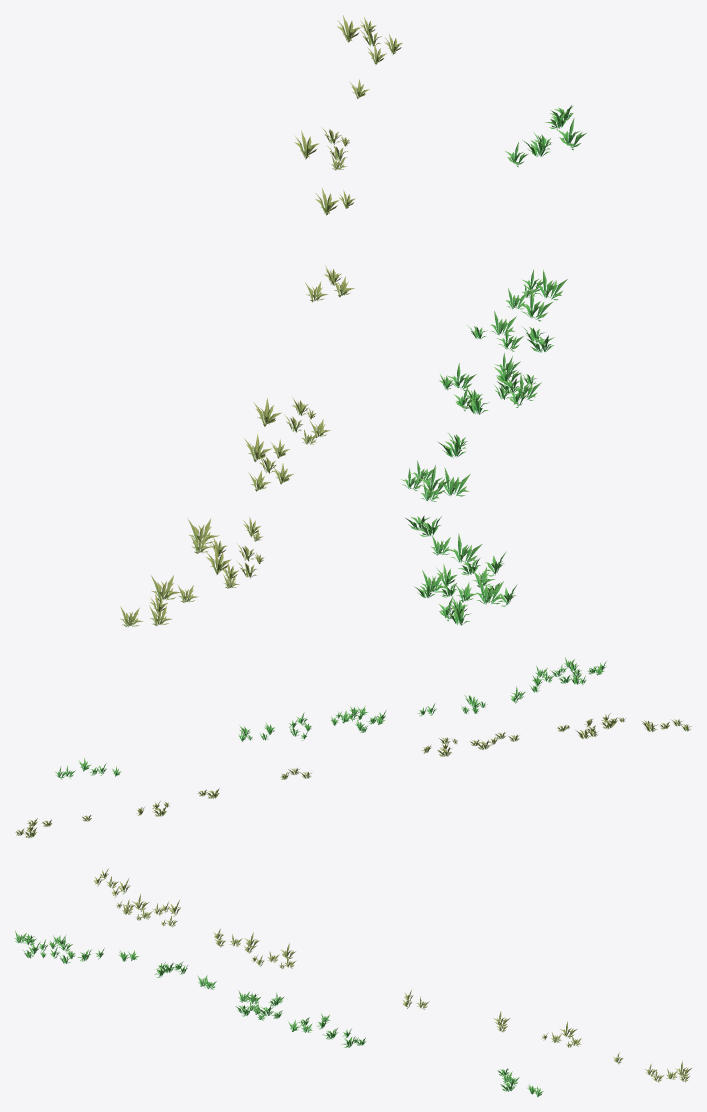
Rendered from area_06_10.fbx.
3 views of the same model, one above another, from view 1: azimuth 30°, elevation 25°; view 2: azimuth 150°, elevation 25°; view 3: azimuth 270°, elevation 25° (orthographic). The views are drawn at different scales.
Visible parts, largest first — view 1: area_06_10; view 2: area_06_10; view 3: area_06_10.
Part boxes in pixels (x1=…): area_06_10: x1=120, y1=15, x2=586, y2=626; area_06_10: x1=15, y1=657, x2=691, y2=838; area_06_10: x1=14, y1=868, x2=691, y2=1096.
Size of the model in its own units: 43.38 by 1.23 by 55.66.
